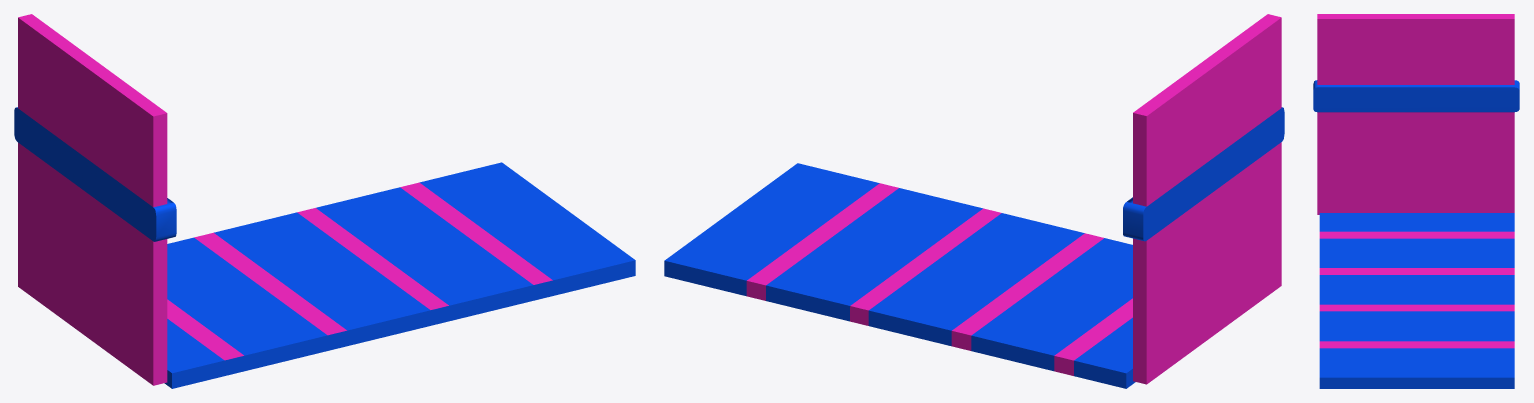
Rendered from plat.fbx.
The picture shows the model from 3 angles, left to right: view 1: azimuth 30°, elevation 25°; view 2: azimuth 150°, elevation 25°; view 3: azimuth 270°, elevation 25°; orthographic projection. The views are drawn at different scales.
Visible parts, largest first — view 1: Box005, Box006; view 2: Box005, Box006; view 3: Box006, Box005.
Part boxes in pixels (left/top/right/bottom): Box005: left=164, top=162, right=635, bottom=388; Box006: left=14, top=14, right=176, bottom=385; Box005: left=664, top=163, right=1135, bottom=388; Box006: left=1123, top=14, right=1284, bottom=384; Box006: left=1313, top=14, right=1519, bottom=214; Box005: left=1319, top=213, right=1514, bottom=388.
Size of the model in its own units: 3298 by 1815 by 1674.
